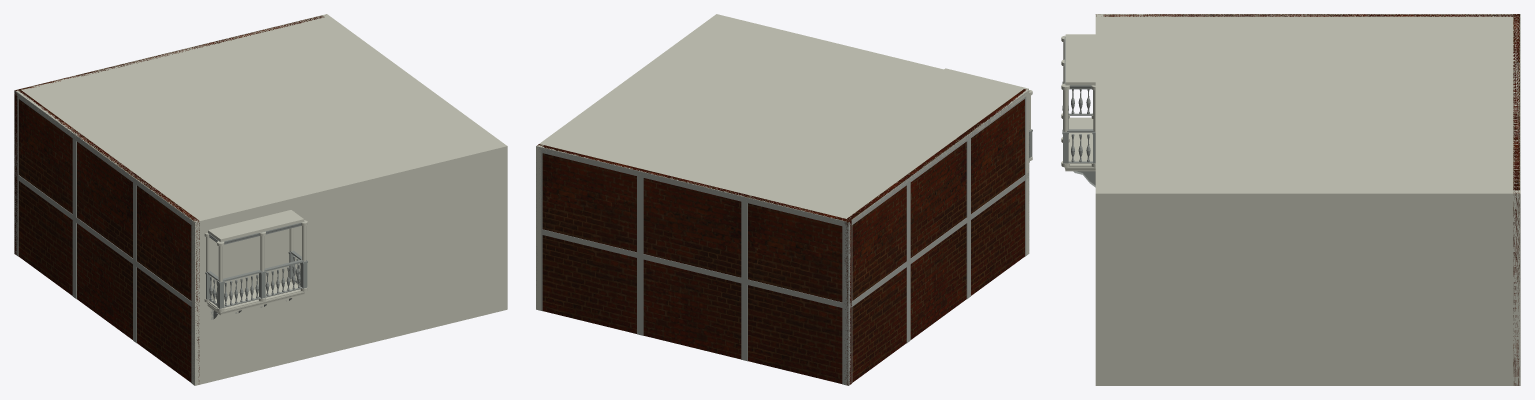
Rendered from building.glb.
3 views of the same model, side by side, from view 1: azimuth 30°, elevation 25°; view 2: azimuth 150°, elevation 25°; view 3: azimuth 270°, elevation 25° (orthographic). The views are drawn at different scales.
Visible parts, largest first — view 1: roof/house:0/roof_slab#0001, house:0/edge0/z0/house:0/edge0/z0/wall_0_0, house:0/edge3/z0/house:0/edge3/z0/wall_0_0, house:0/edge2/z0/house:0/edge2/z0/wall_0_0, balcony/sample/balcony_cover#0001, house:0/edge3/z0/house:0/edge3/z0/beam_0_0, house:0/edge1/z0/house:0/edge1/z0/wall_0_0, house:0/edge3/z0/house:0/edge3/z0/beam_1_0, balcony/sample/balcony_platform#0001, balcony/sample/balcony_fascia#0001; view 2: roof/house:0/roof_slab#0001, house:0/edge2/z0/house:0/edge2/z0/wall_0_0, house:0/edge3/z0/house:0/edge3/z0/wall_0_0, house:0/edge1/z0/house:0/edge1/z0/wall_0_0, house:0/edge2/z0/house:0/edge2/z0/beam_1_0, house:0/edge2/z0/house:0/edge2/z0/beam_0_0, house:0/edge0/z0/house:0/edge0/z0/wall_0_0, house:0/edge3/z0/house:0/edge3/z0/beam_0_0, house:0/edge3/z0/house:0/edge3/z0/beam_1_0, house:0/edge2/z0/house:0/edge2/z0/column_1_0, house:0/edge2/z0/house:0/edge2/z0/column_1_1, house:0/edge2/z0/house:0/edge2/z0/column_2_0 (+3 smaller); view 3: house:0/edge1/z0/house:0/edge1/z0/wall_0_0, roof/house:0/roof_slab#0001, house:0/edge0/z0/house:0/edge0/z0/wall_0_0, house:0/edge2/z0/house:0/edge2/z0/wall_0_0, balcony/sample/balcony_cover#0001, house:0/edge3/z0/house:0/edge3/z0/wall_0_0, balcony/sample/balcony_platform#0001.
Boxes of the visible parts, x1,y1,x2,y2 form: roof/house:0/roof_slab#0001: (15, 15, 504, 225); house:0/edge0/z0/house:0/edge0/z0/wall_0_0: (192, 144, 507, 385); house:0/edge3/z0/house:0/edge3/z0/wall_0_0: (18, 89, 199, 382); house:0/edge2/z0/house:0/edge2/z0/wall_0_0: (14, 15, 324, 254); balcony/sample/balcony_cover#0001: (208, 210, 303, 241); house:0/edge3/z0/house:0/edge3/z0/beam_0_0: (14, 173, 194, 308); house:0/edge1/z0/house:0/edge1/z0/wall_0_0: (322, 14, 507, 310); house:0/edge3/z0/house:0/edge3/z0/beam_1_0: (14, 90, 195, 227); balcony/sample/balcony_platform#0001: (209, 282, 302, 310); balcony/sample/balcony_fascia#0001: (207, 291, 304, 315); roof/house:0/roof_slab#0001: (538, 15, 1029, 224); house:0/edge2/z0/house:0/edge2/z0/wall_0_0: (537, 144, 851, 384); house:0/edge3/z0/house:0/edge3/z0/wall_0_0: (844, 89, 1026, 385); house:0/edge1/z0/house:0/edge1/z0/wall_0_0: (536, 14, 720, 310); house:0/edge2/z0/house:0/edge2/z0/beam_1_0: (537, 146, 848, 227); house:0/edge2/z0/house:0/edge2/z0/beam_0_0: (541, 229, 848, 309); house:0/edge0/z0/house:0/edge0/z0/wall_0_0: (714, 14, 1029, 255); house:0/edge3/z0/house:0/edge3/z0/beam_0_0: (848, 172, 1029, 309); house:0/edge3/z0/house:0/edge3/z0/beam_1_0: (848, 90, 1028, 227); house:0/edge2/z0/house:0/edge2/z0/column_1_0: (842, 308, 848, 385); house:0/edge2/z0/house:0/edge2/z0/column_1_1: (842, 226, 848, 303); house:0/edge2/z0/house:0/edge2/z0/column_2_0: (637, 176, 643, 253); house:0/edge1/z0/house:0/edge1/z0/wall_0_0: (1095, 190, 1520, 385); roof/house:0/roof_slab#0001: (1095, 14, 1520, 197); house:0/edge0/z0/house:0/edge0/z0/wall_0_0: (1095, 14, 1102, 385); house:0/edge2/z0/house:0/edge2/z0/wall_0_0: (1513, 14, 1519, 385); balcony/sample/balcony_cover#0001: (1065, 34, 1095, 85); house:0/edge3/z0/house:0/edge3/z0/wall_0_0: (1096, 14, 1517, 16); balcony/sample/balcony_platform#0001: (1068, 117, 1093, 166).
Bounding box in the file's own units: 12 × 6 × 12.97.
4 materials, 1 textured.
